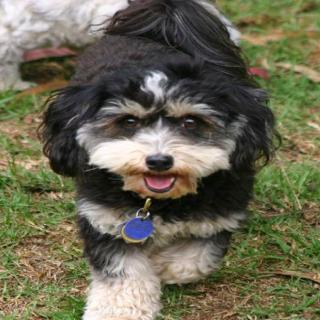dog: (28, 69, 277, 208)
nose: (144, 148, 179, 175)
